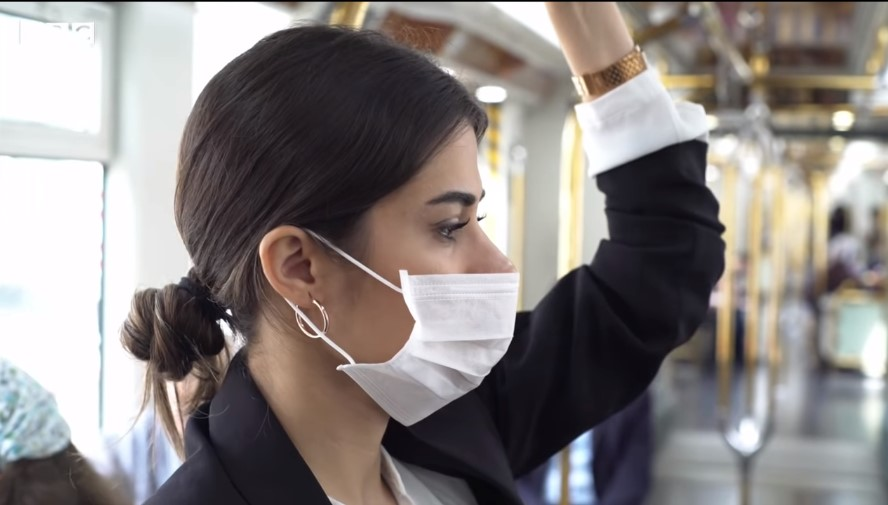face_with_mask: (242, 89, 528, 432)
